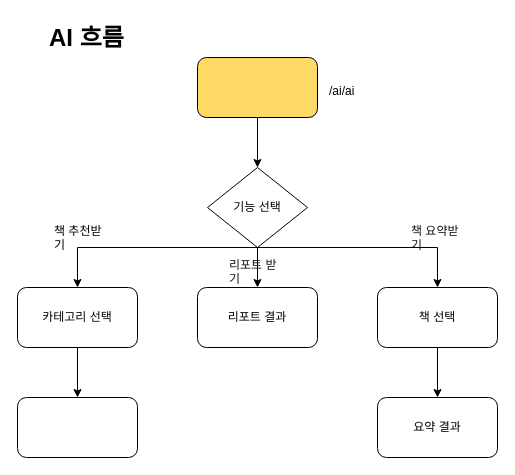
Image size: 515x475. Some labels were removed from this diagram. The centre of each missing label's shape, as x and y in pixels:
"AI" goes at (257,87).
"추천 결과" goes at (77,427).
